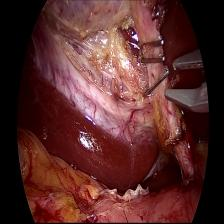Clipper: (164, 50, 216, 114)
